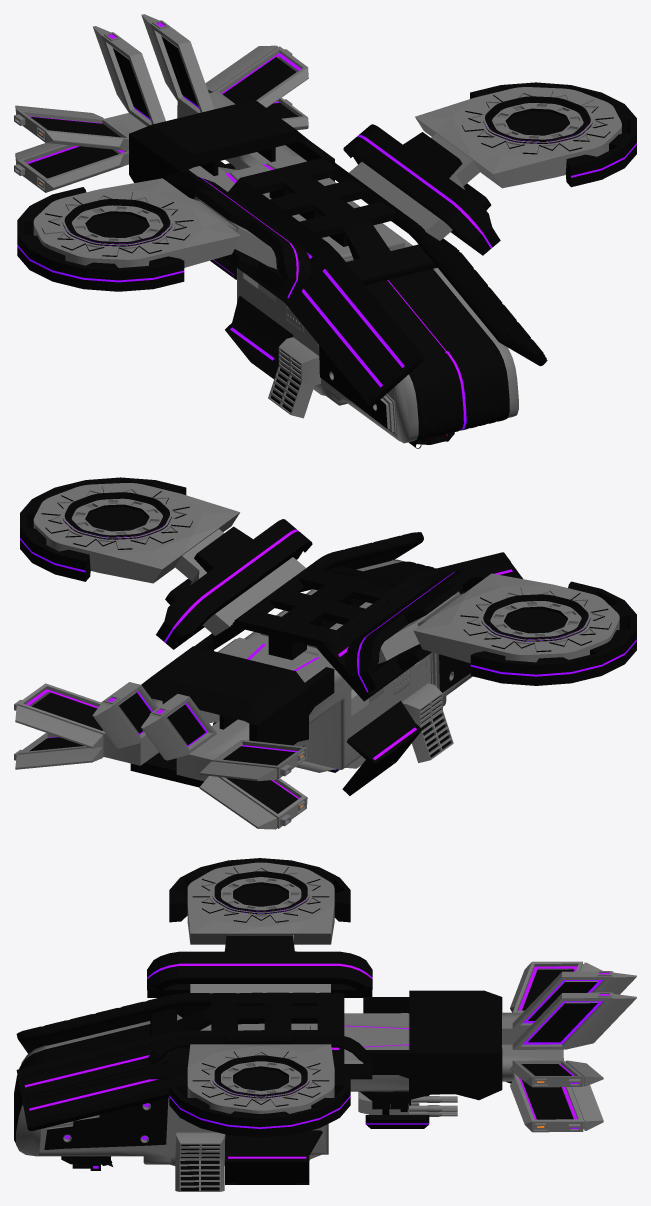
The model's file is air_craft_-_bolt.glb.
The picture shows the model from 3 angles, top to bottom: view 1: azimuth 30°, elevation 25°; view 2: azimuth 150°, elevation 25°; view 3: azimuth 270°, elevation 25°; orthographic projection. The views are drawn at different scales.
Parts seen in each view (by area): view 1: Cylinder005, Box003, Object002_13 - Default_0, Cylinder007, Cylinder006, Object001_13 - Default_0, Box007, Object002_01 - Default_0, Object001_01 - Default_0, Cylinder003, Cylinder002; view 2: Cylinder005, Box003, Box007, Object002_13 - Default_0, Cylinder007, Cylinder006, Object001_13 - Default_0, Object002_01 - Default_0, Object001_01 - Default_0, Cylinder003, Cylinder002; view 3: Cylinder005, Box003, Cylinder006, Box007, Cylinder007, Object001_13 - Default_0, Object002_13 - Default_0, Box008, Object001_01 - Default_0, Object002_01 - Default_0, Cylinder002, Box009.
Boxes of the visible parts, <box> form: Cylinder005: <box>14,14,518,443</box>; Box003: <box>228,158,547,407</box>; Object002_13 - Default_0: <box>415,87,621,188</box>; Cylinder007: <box>343,82,636,255</box>; Cylinder006: <box>17,171,311,300</box>; Object001_13 - Default_0: <box>33,178,240,267</box>; Box007: <box>129,99,334,199</box>; Object002_01 - Default_0: <box>462,91,613,154</box>; Object001_01 - Default_0: <box>41,192,193,256</box>; Cylinder003: <box>349,162,464,240</box>; Cylinder002: <box>194,196,277,269</box>; Cylinder005: <box>14,559,472,829</box>; Box003: <box>206,532,522,701</box>; Box007: <box>130,637,334,787</box>; Object002_13 - Default_0: <box>33,483,239,583</box>; Cylinder007: <box>20,477,312,649</box>; Cylinder006: <box>344,566,636,694</box>; Object001_13 - Default_0: <box>413,573,619,663</box>; Object002_01 - Default_0: <box>41,486,192,549</box>; Object001_01 - Default_0: <box>460,588,611,652</box>; Cylinder003: <box>190,557,305,635</box>; Cylinder002: <box>378,591,460,663</box>; Cylinder005: <box>14,961,636,1191</box>; Box003: <box>16,992,344,1130</box>; Cylinder006: <box>147,858,372,997</box>; Box007: <box>363,990,511,1100</box>; Cylinder007: <box>147,1035,372,1137</box>; Object001_13 - Default_0: <box>187,862,334,944</box>; Object002_13 - Default_0: <box>187,1044,334,1113</box>; Box008: <box>358,1091,457,1128</box>; Object001_01 - Default_0: <box>192,867,329,922</box>; Object002_01 - Default_0: <box>192,1051,329,1106</box>; Cylinder002: <box>190,951,330,993</box>; Box009: <box>61,1156,112,1170</box>.
Bounding box in the file's own units: 10.76 × 3.45 × 10.86.
